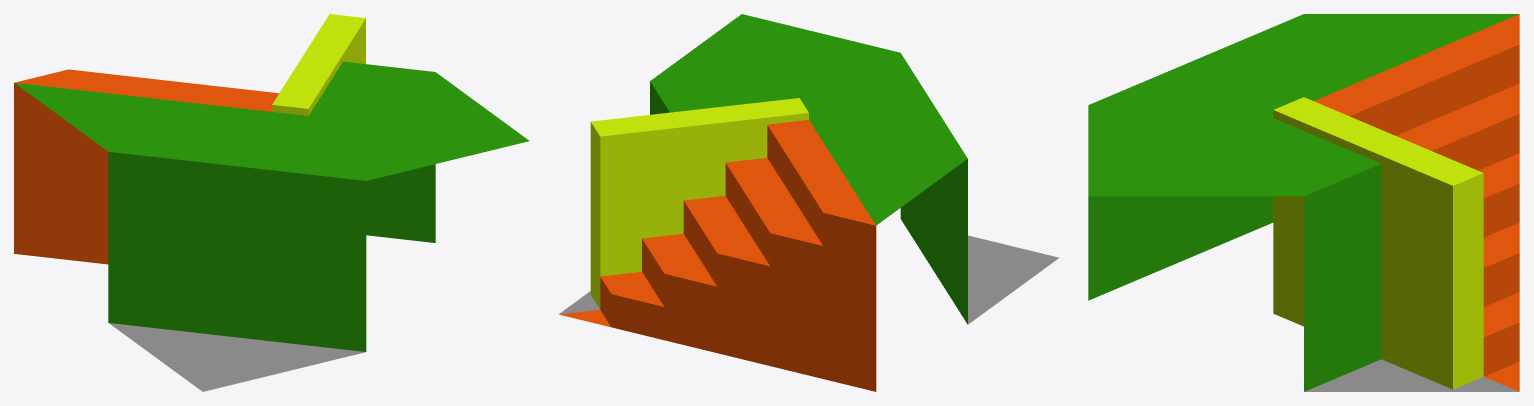
3 views of the same model, side by side, from view 1: azimuth 30°, elevation 25°; view 2: azimuth 150°, elevation 25°; view 3: azimuth 270°, elevation 25° (orthographic). The views are drawn at different scales.
Parts seen in each view (by area): view 1: T_a_8_1; view 2: T_a_8_1; view 3: T_a_8_1.
Boxes of the visible parts, x1,y1,x2,y2 form: T_a_8_1: [14, 14, 529, 391]; T_a_8_1: [559, 14, 1059, 391]; T_a_8_1: [1088, 14, 1519, 391].
Size of the model in its own units: 99.81 by 51.98 by 99.79.
